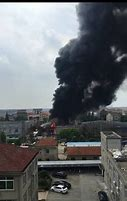smoke: (47, 3, 127, 119)
